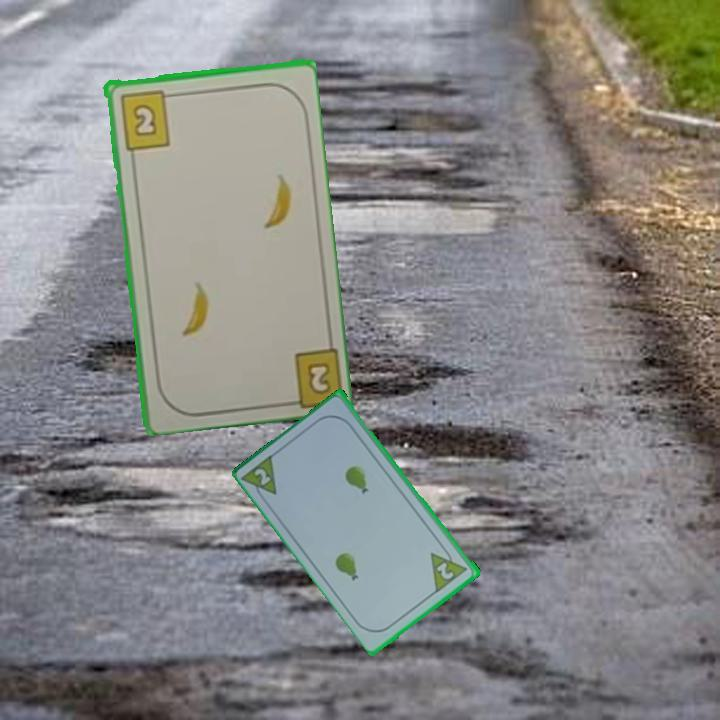2b: (278, 342, 343, 409), (116, 87, 177, 152)
2p: (427, 541, 471, 595), (251, 464, 274, 488)
